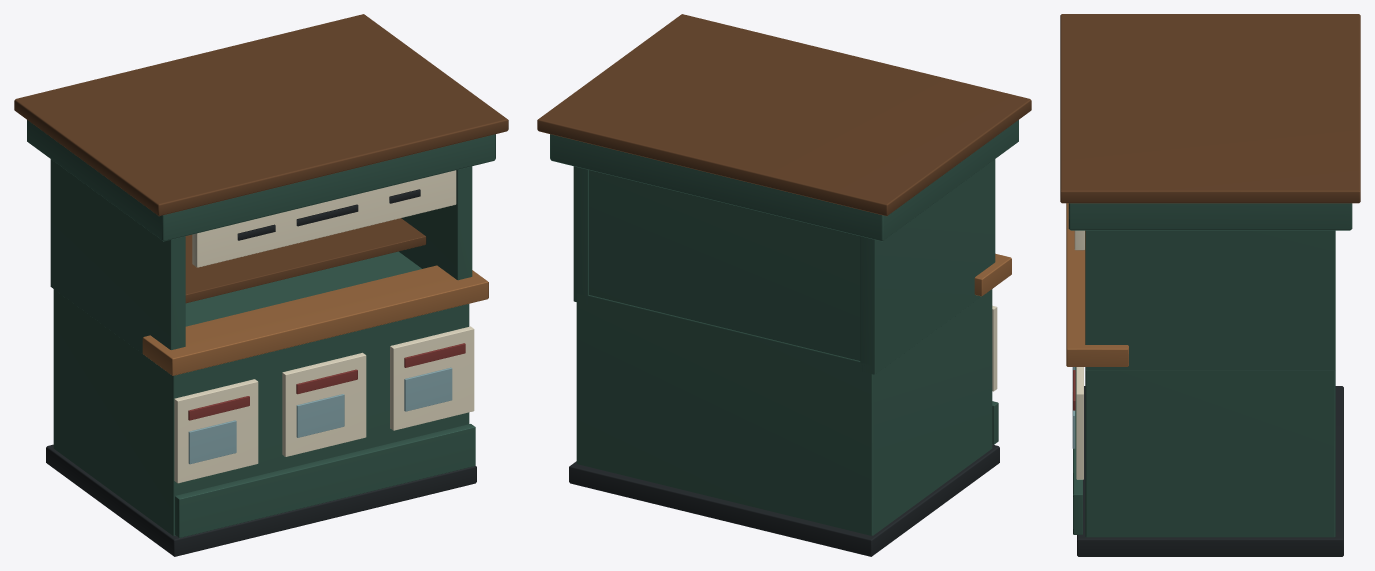
Rendered from S060_news_kiosk_rebuilt.glb.
The picture shows the model from 3 angles, left to right: view 1: azimuth 30°, elevation 25°; view 2: azimuth 150°, elevation 25°; view 3: azimuth 270°, elevation 25°; orthographic projection. The views are drawn at different scales.
Visible parts, largest first — view 1: Deep_green_outdoor_paint, Oak_end_and_edge.001, Warm_ivory.001, Oiled_warm_oak.001, Deep_joint_recess.001, Reflective_muted_mirror.001, Burgundy_upholstery.001; view 2: Deep_green_outdoor_paint, Oak_end_and_edge.001, Deep_joint_recess.001, Oiled_warm_oak.001; view 3: Deep_green_outdoor_paint, Oak_end_and_edge.001, Deep_joint_recess.001, Oiled_warm_oak.001, Warm_ivory.001.
Boxes of the visible parts, x1,y1,x2,y2 form: Deep_green_outdoor_paint: [27, 120, 495, 538]; Oak_end_and_edge.001: [14, 14, 508, 303]; Warm_ivory.001: [174, 170, 474, 483]; Oiled_warm_oak.001: [142, 265, 488, 375]; Deep_joint_recess.001: [46, 189, 476, 556]; Reflective_muted_mirror.001: [188, 367, 452, 464]; Burgundy_upholstery.001: [188, 343, 465, 420]; Deep_green_outdoor_paint: [550, 120, 1018, 535]; Oak_end_and_edge.001: [537, 14, 1031, 216]; Deep_joint_recess.001: [569, 444, 999, 556]; Oiled_warm_oak.001: [974, 253, 1011, 296]; Deep_green_outdoor_paint: [1068, 203, 1352, 537]; Oak_end_and_edge.001: [1060, 14, 1360, 203]; Deep_joint_recess.001: [1077, 386, 1343, 556]; Oiled_warm_oak.001: [1066, 203, 1128, 366]; Warm_ivory.001: [1074, 230, 1084, 479].
Size of the model in its own units: 2.44 by 2.42 by 1.75.
